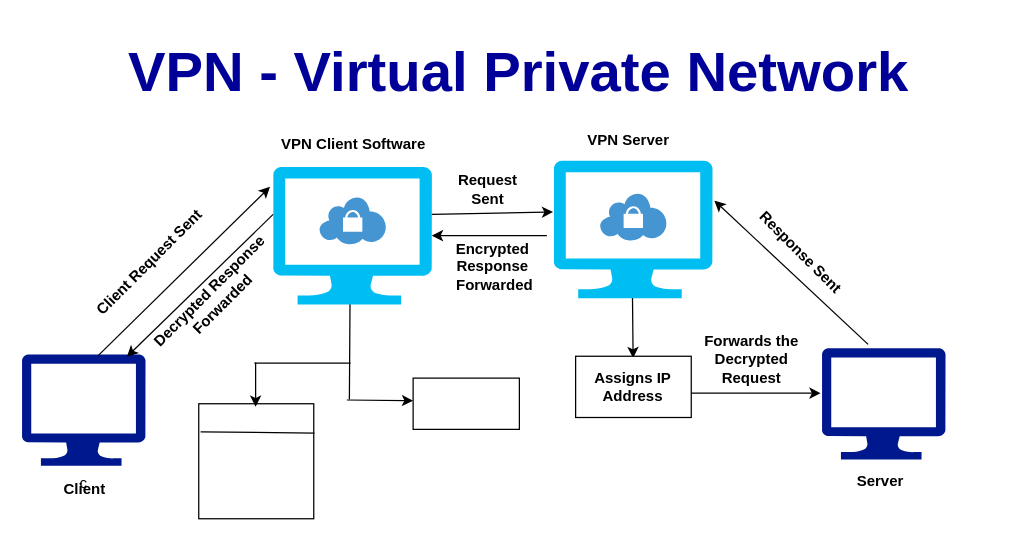
The diagram is 1016 pixels wide and 544 high, and some of its shapes have lost their labels. The shapes that lost their labels are listed below. From the top down, each one's box as (x1, y1, x2, y2) in pixels, then its label:
(412, 377, 519, 429): Encrypts the data
(198, 402, 314, 519): VPN Selectors OpenVPN, IKEV2, IPSec, WireGuard
